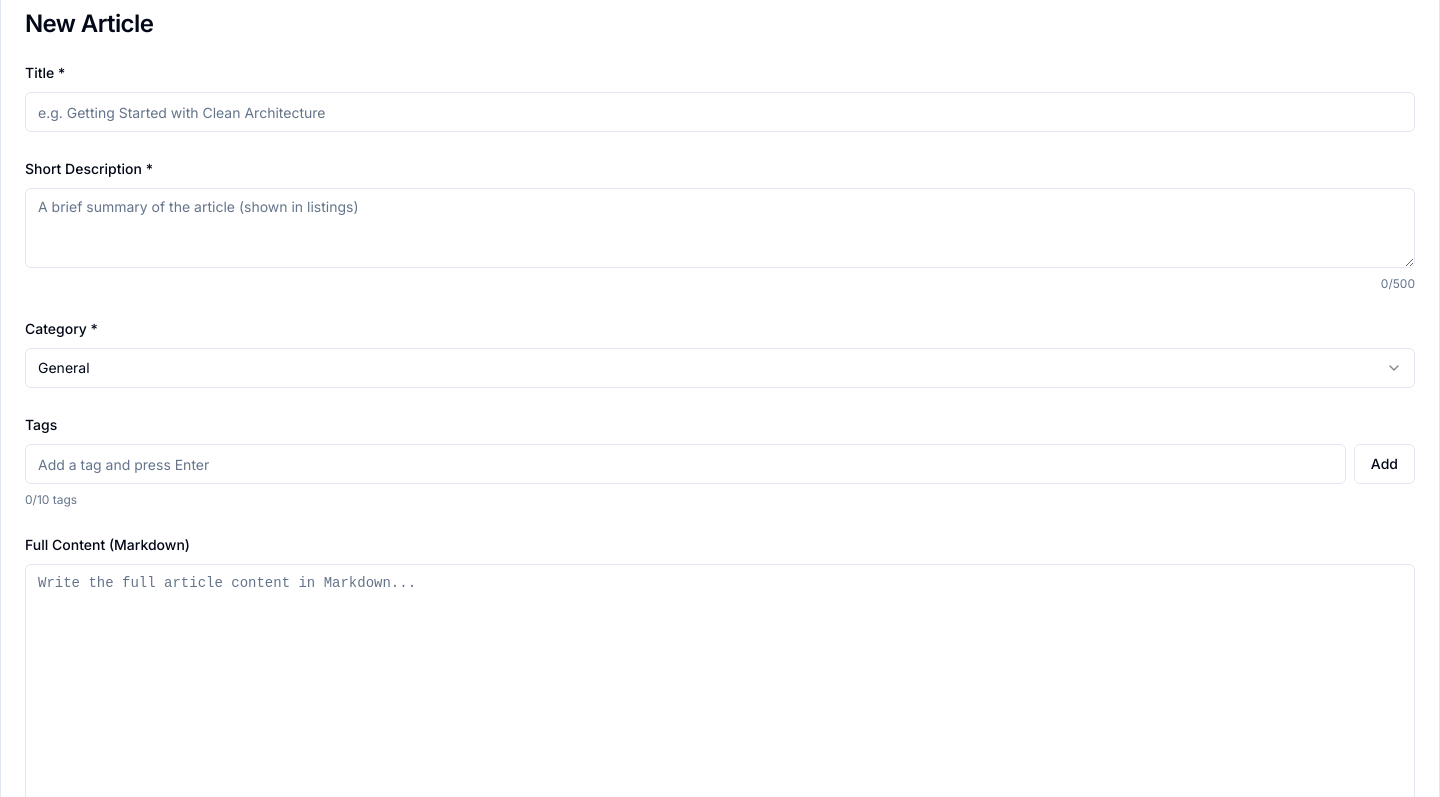
ArticleForm — create mode › shows short description validation error when empty
In the field labelled "Title *": (720, 112) top-left (25, 92), bottom-right (1415, 132), type "Some Title"
(page scrolled)
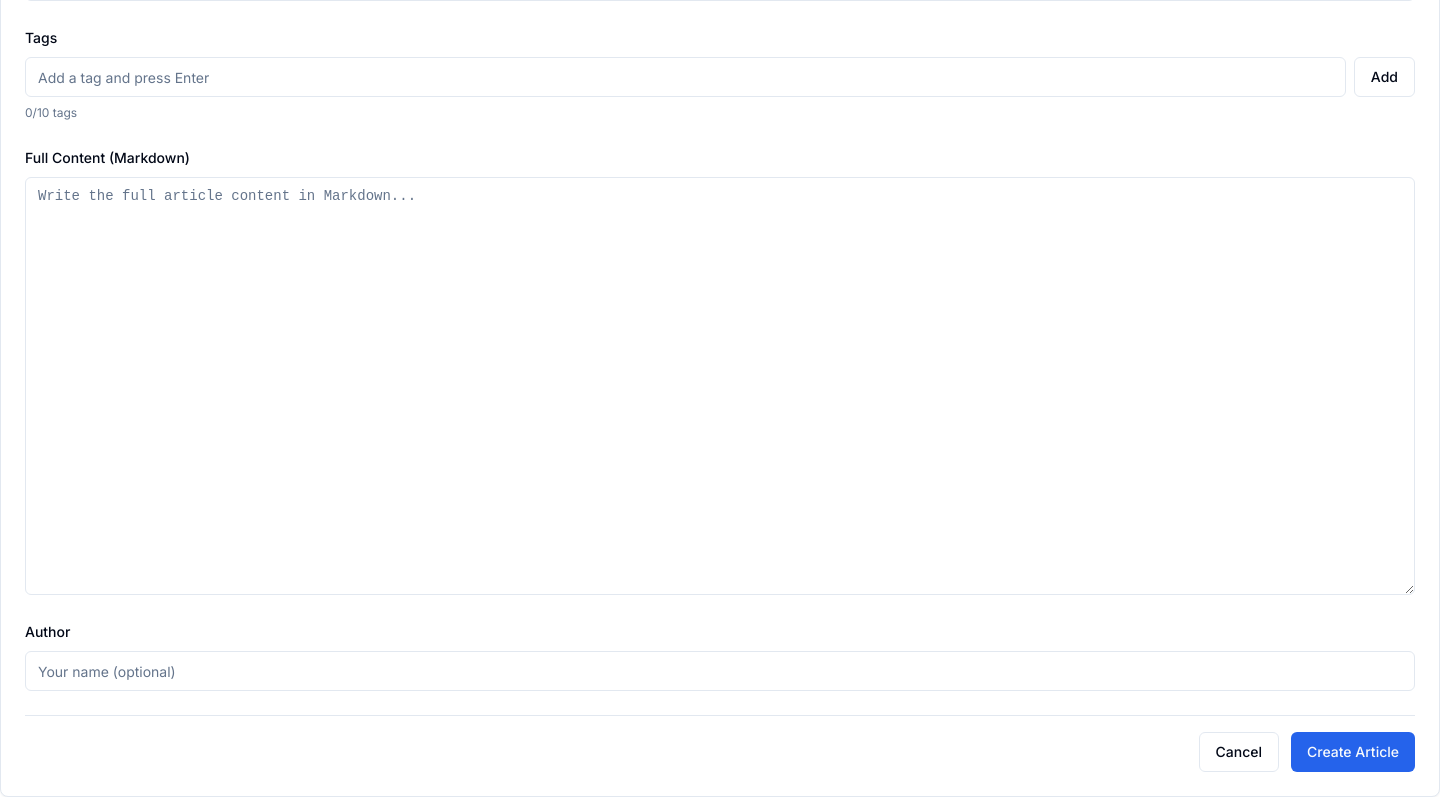
Click the button "Create Article": (1353, 752) top-left (1291, 732), bottom-right (1415, 772)
(page scrolled)
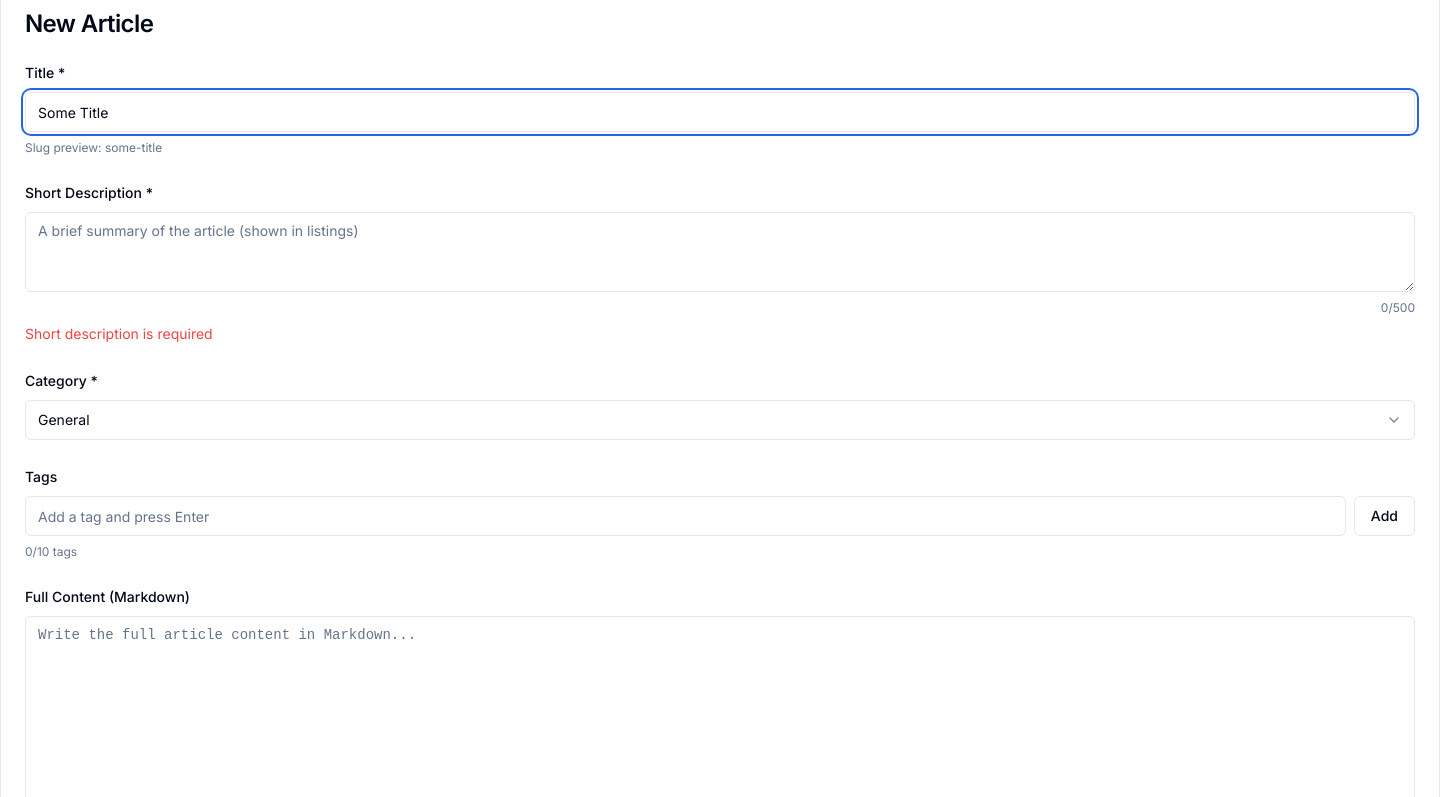
Expected: the text "Short description is required" is shown, top-left (25, 325), bottom-right (213, 342)
